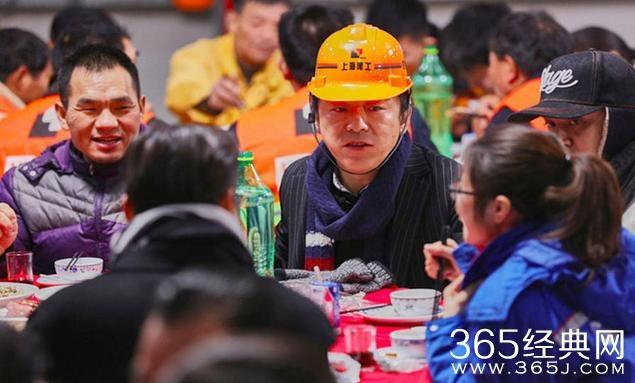helmet: (306, 25, 415, 103), (524, 50, 634, 113)
